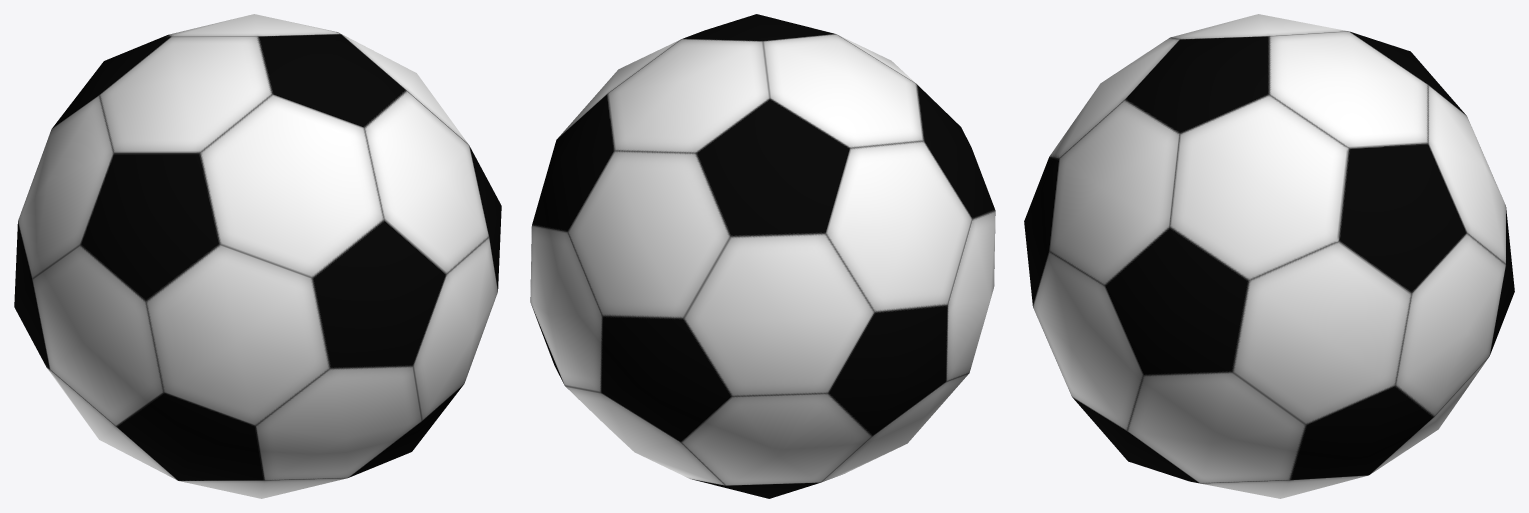
The model's file is ball_normal 1.fbx.
The picture shows the model from 3 angles, left to right: view 1: azimuth 30°, elevation 25°; view 2: azimuth 150°, elevation 25°; view 3: azimuth 270°, elevation 25°; orthographic projection. The views are drawn at different scales.
Visible parts, largest first — view 1: pSolid1; view 2: pSolid1; view 3: pSolid1.
Part boxes in pixels (x1,y1,x2,y2): pSolid1: (14,14,501,498); pSolid1: (530,14,995,498); pSolid1: (1024,14,1514,498).
Bounding box in the file's own units: 9.86 × 10 × 10.1.
1 material, 1 textured.
